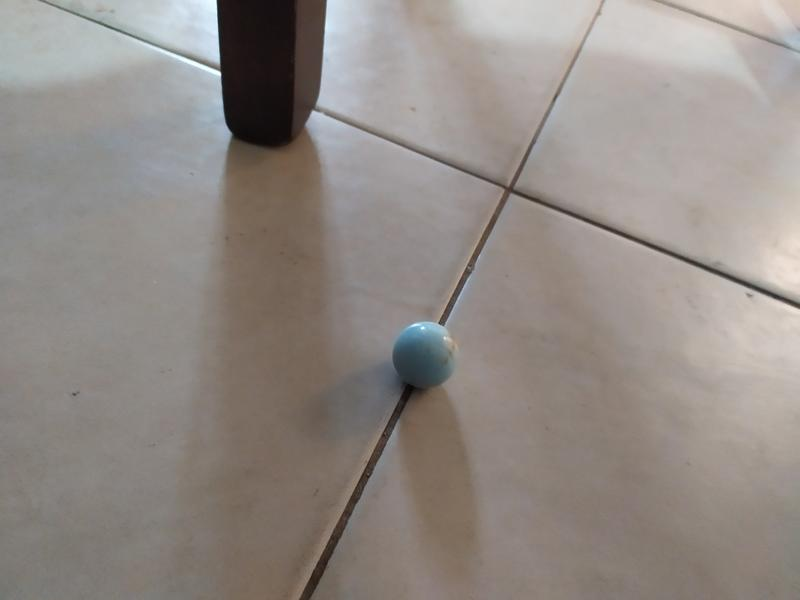Warning: (390, 318, 463, 392)
